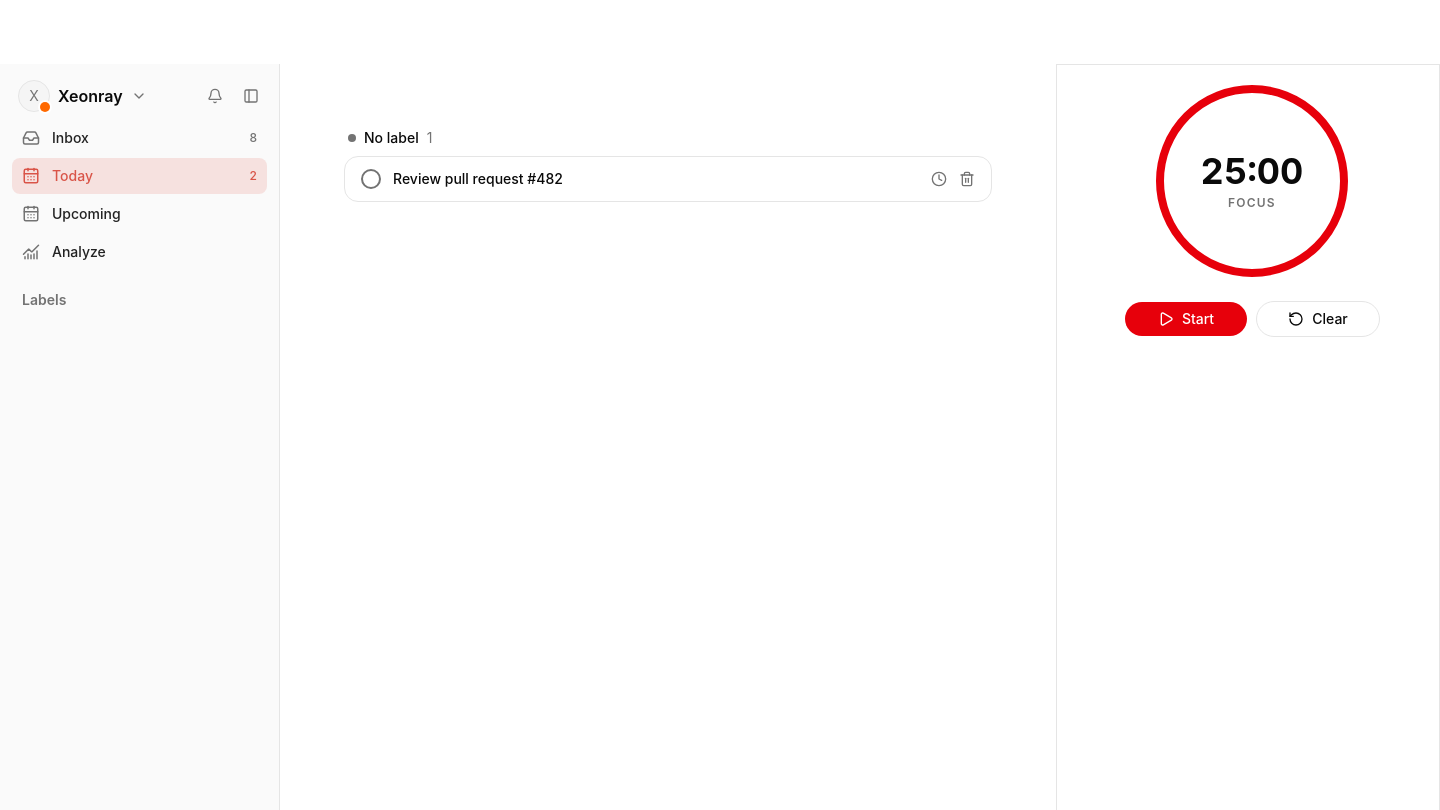
Test case: AppLayout › shows the timer task card with task details when the clock icon is clicked
Step 1. Click the button named "Toggle task timer card" → (939, 179), box [931,171,947,187]
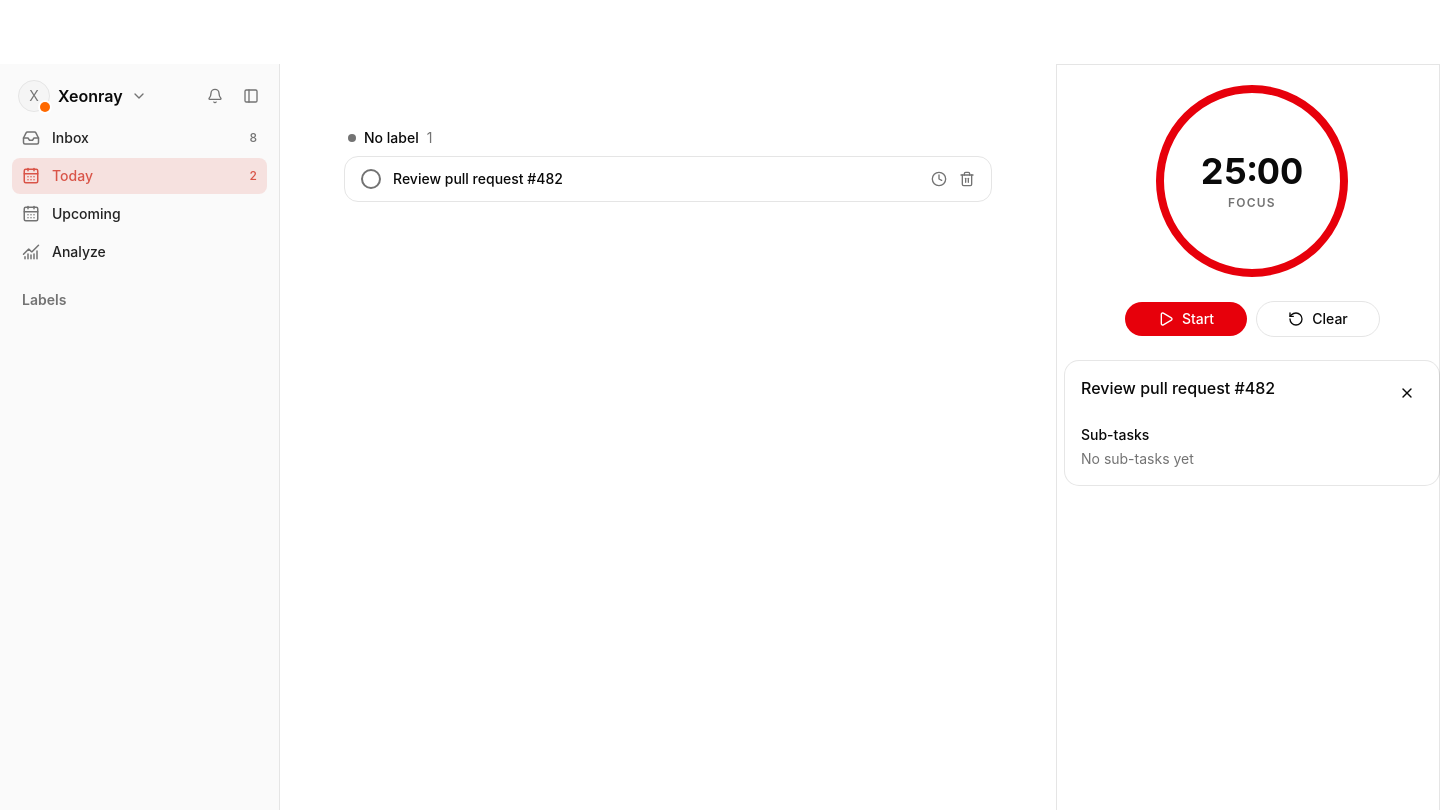
Expected: the text "Review pull request #482" is shown 2 times, [393,170,563,187]; [1081,378,1275,398]
Expected: the text "No sub-tasks yet" is shown, [1081,450,1194,467]
